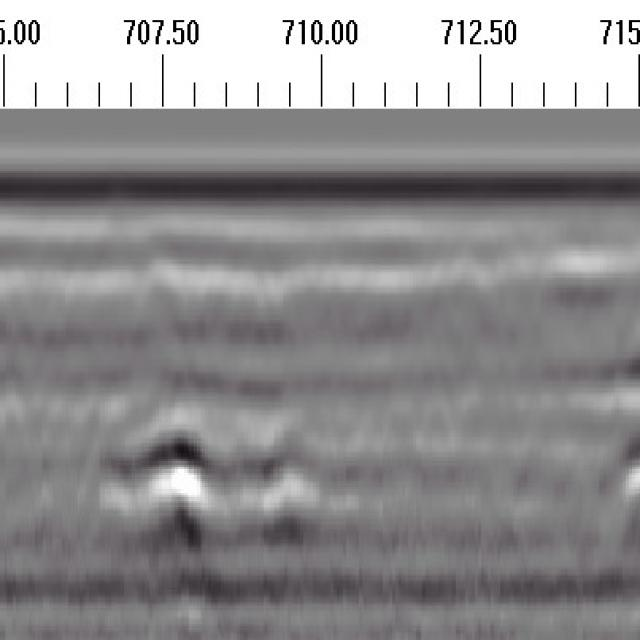loose: (100, 418, 301, 553)
